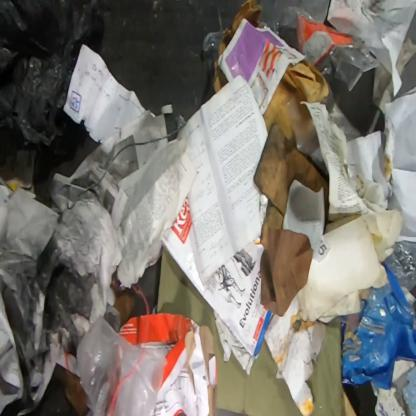cardboard: (157, 246, 348, 416), (253, 124, 326, 316), (119, 312, 214, 416), (262, 60, 329, 147), (212, 0, 263, 96)
rigid_plastic: (272, 7, 383, 92), (201, 2, 224, 55)
soft_plastic: (0, 0, 104, 180), (341, 263, 416, 392), (76, 314, 168, 415), (383, 241, 416, 298)
